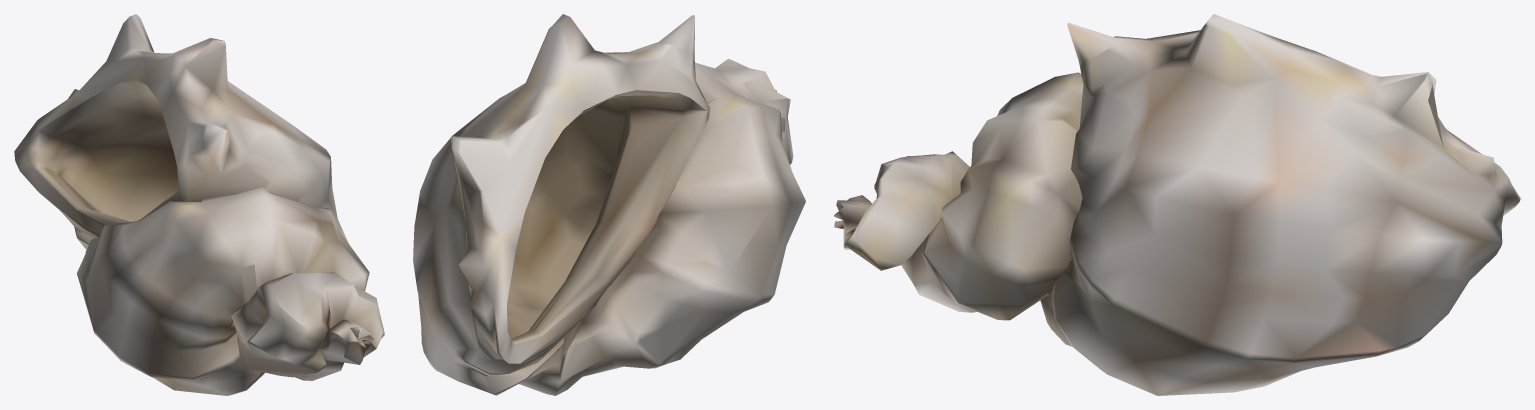
3 renders of one model, left to right at view 1: azimuth 30°, elevation 25°; view 2: azimuth 150°, elevation 25°; view 3: azimuth 270°, elevation 25°, orthographic. The views are drawn at different scales.
Visible parts, largest first — view 1: KingsCrown; view 2: KingsCrown; view 3: KingsCrown.
Boxes of the visible parts, box(x1,y1,x2,y2) form: KingsCrown: box(14, 14, 384, 395); KingsCrown: box(413, 14, 805, 395); KingsCrown: box(834, 14, 1520, 395).
Bounding box in the file's own units: 0.2524 × 0.2974 × 0.5.
